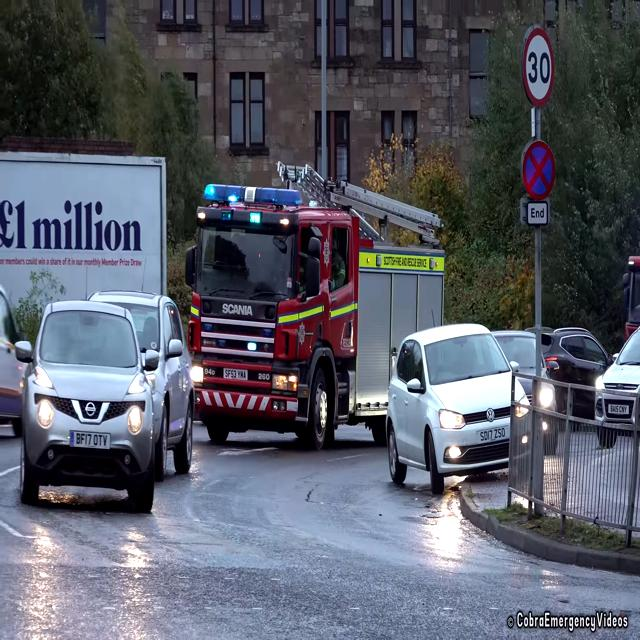emergency-vehicles: (177, 172, 458, 462)
